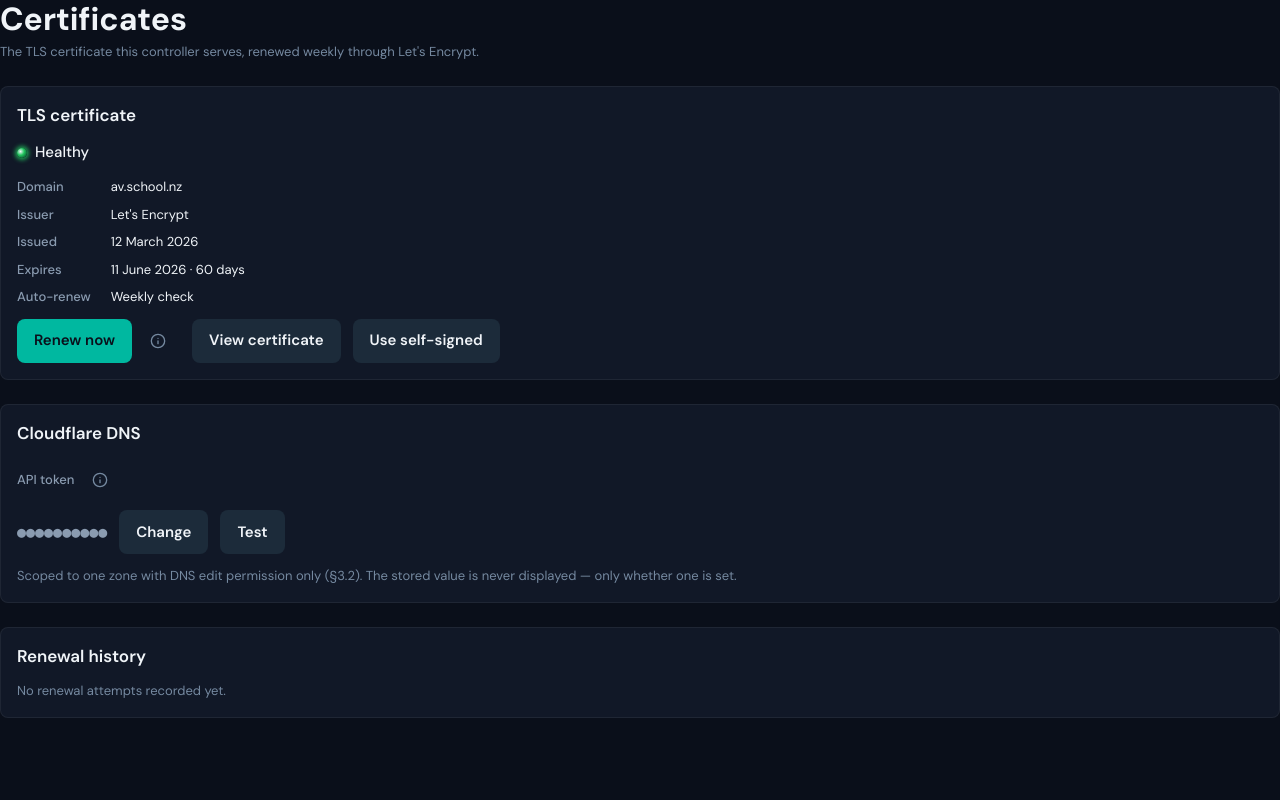
Test: CertificatesScreen — issuance progress (§21.24: real steps, never a spinner) › shows ProgressPanel with all six named steps while issuing, driven by live progress frames
Click the button "Renew now": coordinates (74, 341) [17,319,132,363]
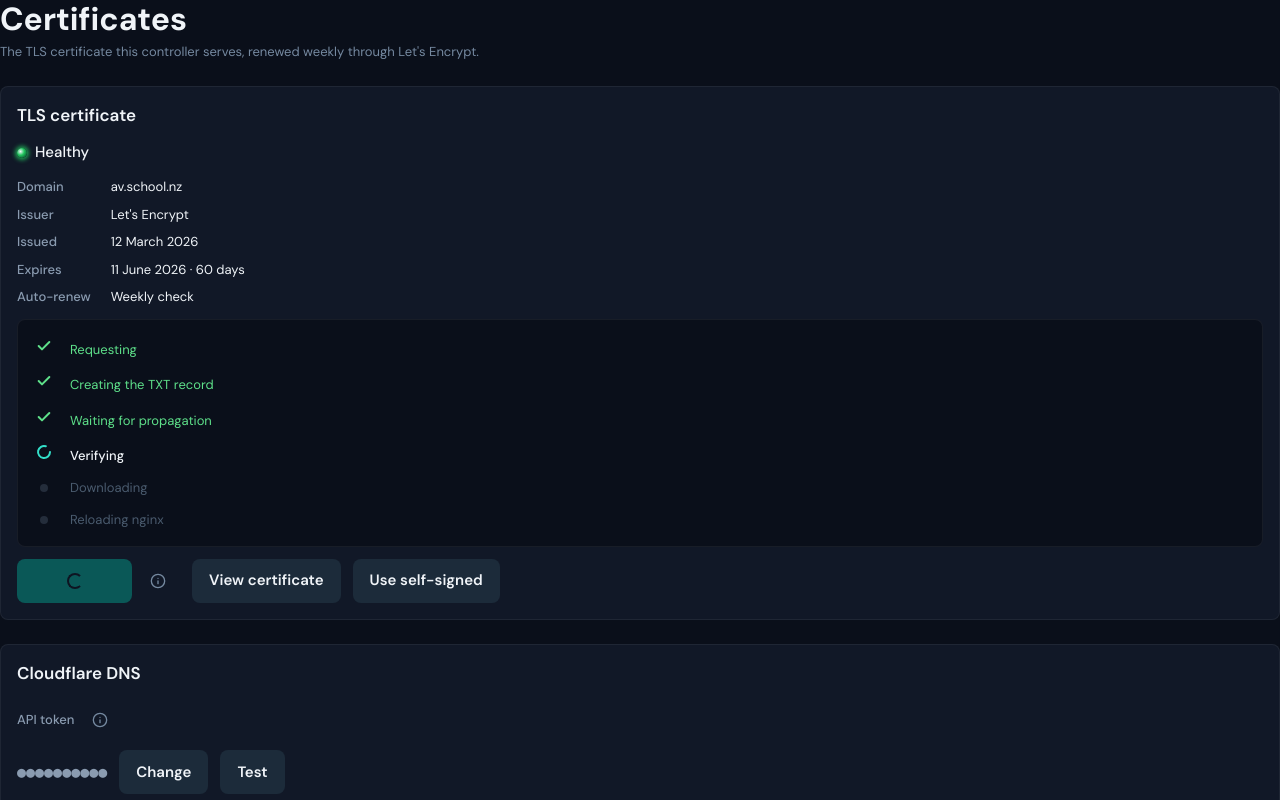
Result: the text "Requesting" is shown at [70,341,137,358]
Result: the text "Reloading nginx" is shown at [70,511,164,528]
